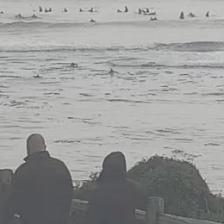surfer: (79, 7, 94, 12), (144, 10, 156, 16), (108, 68, 118, 74), (15, 13, 24, 18), (187, 12, 195, 17), (70, 62, 78, 67), (149, 16, 158, 20), (180, 11, 184, 19), (30, 14, 38, 18), (206, 11, 210, 18), (89, 19, 96, 23), (125, 6, 128, 13), (138, 8, 141, 14), (39, 6, 42, 12), (145, 8, 149, 12), (48, 8, 52, 12), (64, 8, 67, 12), (45, 8, 48, 12)
